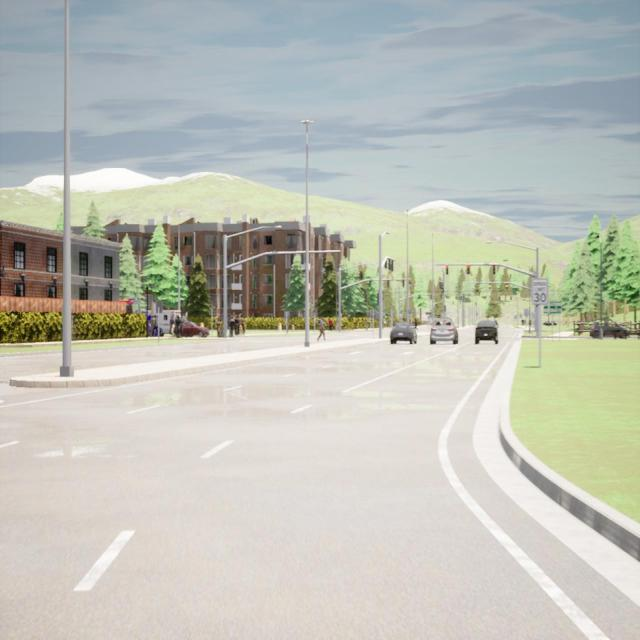Pedestrian: (317, 316, 327, 342), (174, 316, 180, 338), (228, 316, 234, 338), (234, 314, 240, 336), (240, 314, 246, 336), (218, 319, 224, 337), (412, 315, 419, 330), (169, 317, 174, 337), (328, 318, 333, 331)
Traffic_Signs: (532, 279, 548, 303), (544, 301, 562, 313), (284, 311, 290, 317)
Vehicle: (427, 316, 461, 346), (590, 318, 630, 338), (152, 310, 181, 336), (387, 319, 417, 344), (475, 320, 498, 344), (182, 322, 208, 337)
traffic_light: (388, 258, 391, 270), (446, 264, 449, 274), (467, 264, 470, 274), (368, 280, 371, 288), (392, 260, 394, 271), (493, 264, 495, 274), (402, 280, 404, 288), (489, 283, 491, 290), (506, 283, 508, 290), (387, 280, 389, 287), (384, 263, 386, 268)
